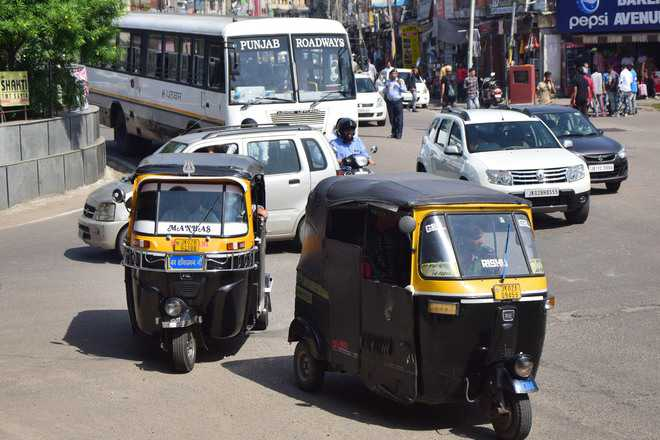bike: (324, 117, 379, 175)
bus: (90, 2, 359, 128)
car: (423, 105, 592, 222), (515, 93, 629, 187), (87, 171, 130, 253), (349, 71, 391, 129), (373, 62, 430, 101)
rickshaw: (295, 171, 548, 440), (125, 154, 276, 361)
